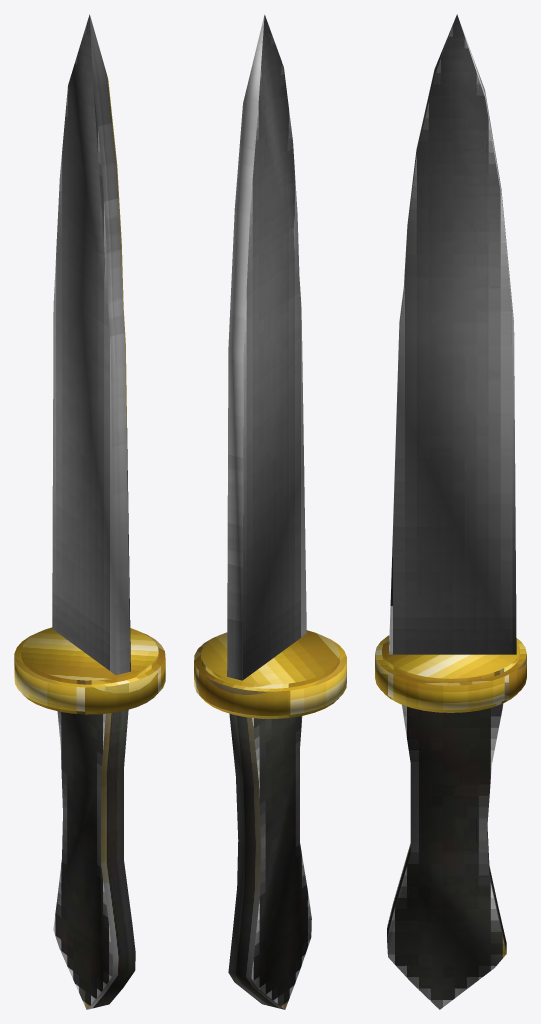
Rendered from blocky knife.fbx.
The picture shows the model from 3 angles, left to right: view 1: azimuth 30°, elevation 25°; view 2: azimuth 150°, elevation 25°; view 3: azimuth 270°, elevation 25°; orthographic projection.
Parts seen in each view (by area): view 1: knife; view 2: knife; view 3: knife.
Boxes of the visible parts, <box> form: knife: <box>14,14,165,1009</box>; knife: <box>194,14,346,1009</box>; knife: <box>375,14,526,1009</box>.
Size of the model in its own units: 0.4982 by 3.58 by 0.4982.
Materials: 1 (1 with a texture image).
